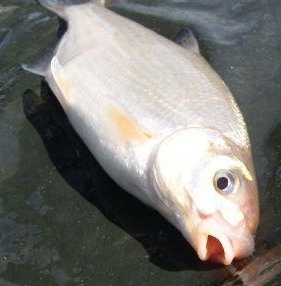Vimba vimba: (20, 1, 261, 266)
